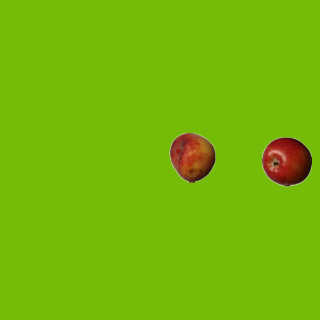Apple Braeburn: (261, 136, 311, 186)
Peach: (167, 132, 217, 182)
